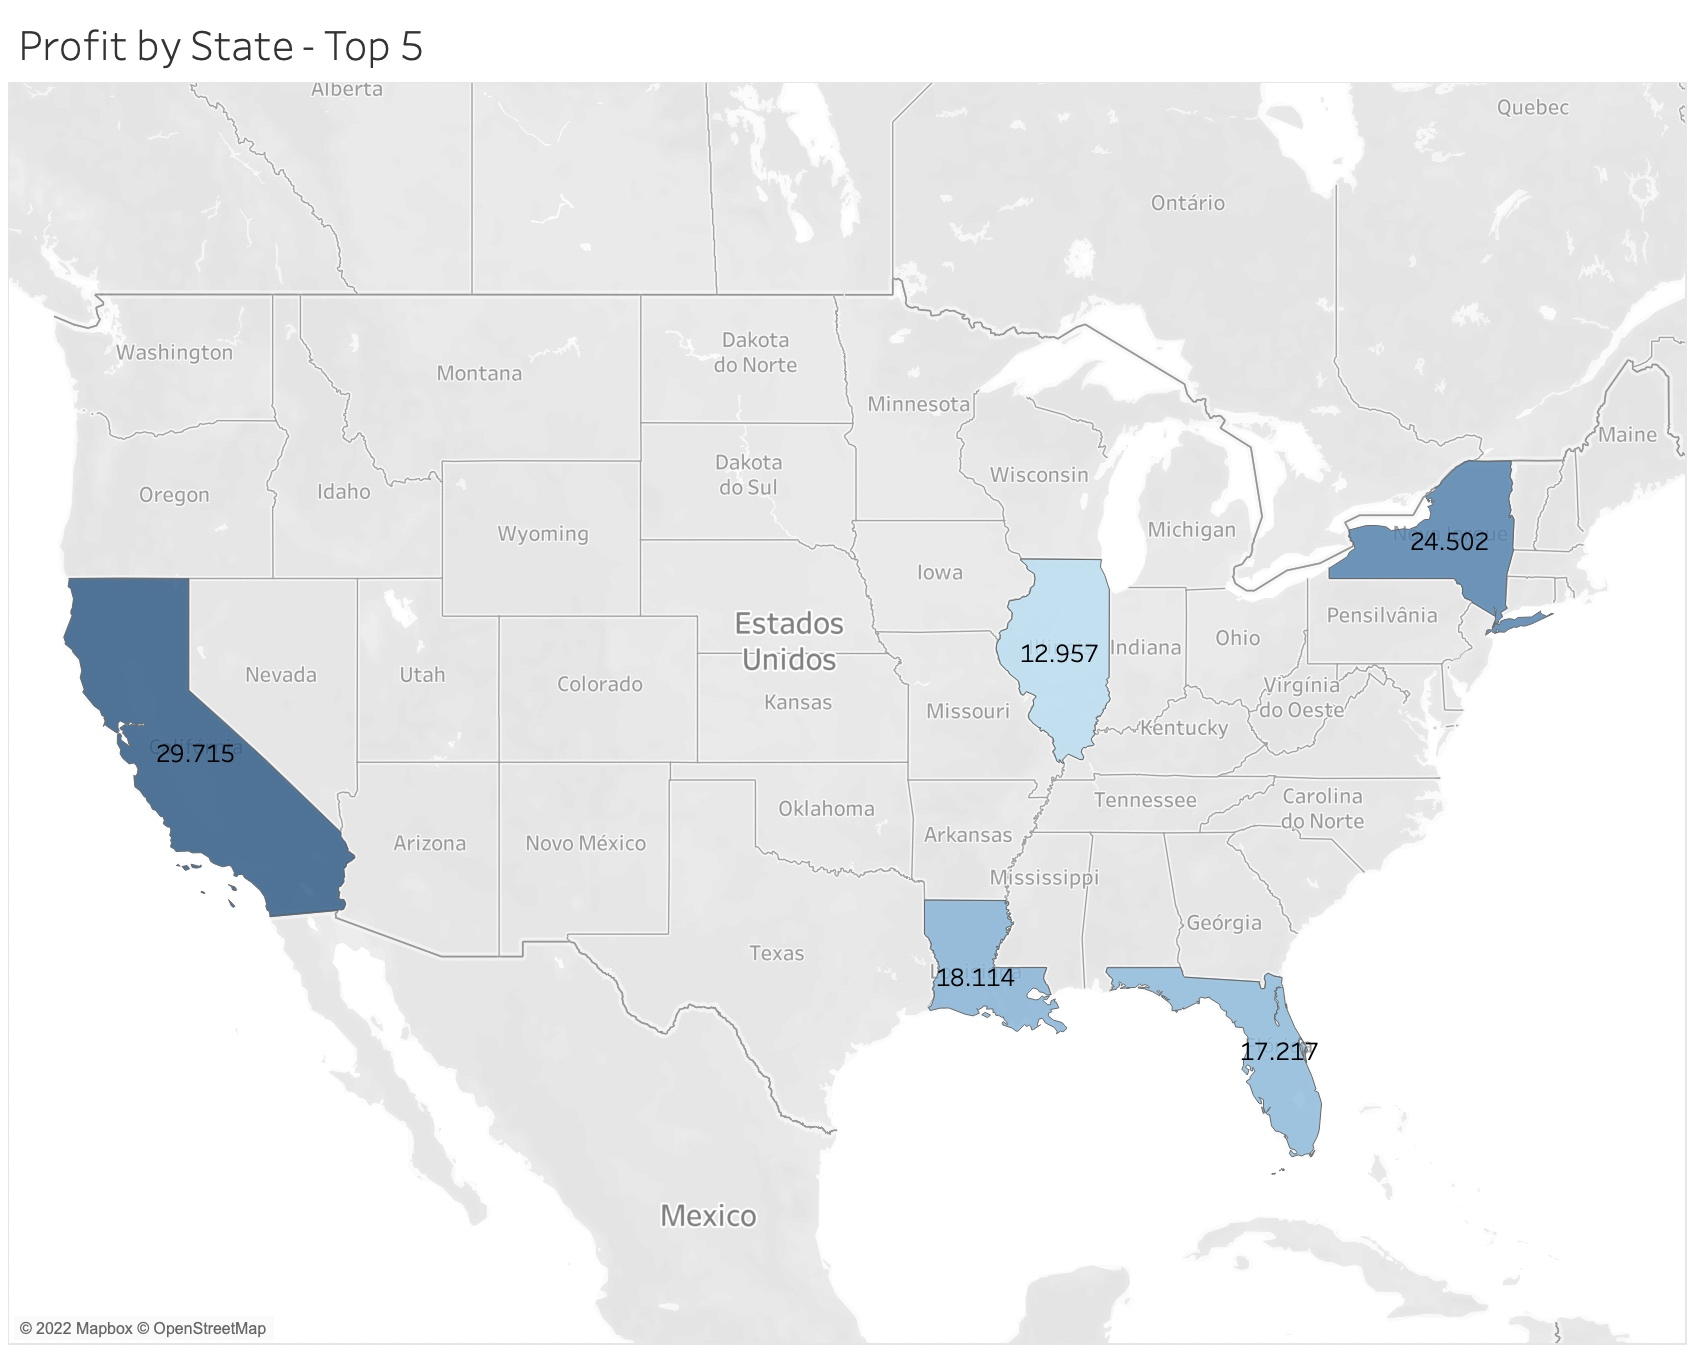

The dashboard page shown, as its layout file describes it:
{"tool":"tableau","page":{"name":"Painel 2","canvas":[1000,800],"ordinal":1},"visuals":[{"type":"worksheet","title":"Profit by State - Top 5","mark":"Automatic","box":[8,8,984,784]}]}

Visuals, with their boxes in screenshot pixels (x1, y1, x2, y2), scaled from the page's 1000x800 canvas onto the 1694x1354 screenshot:
"Profit by State - Top 5" worksheet: crop(14, 14, 1680, 1340)
